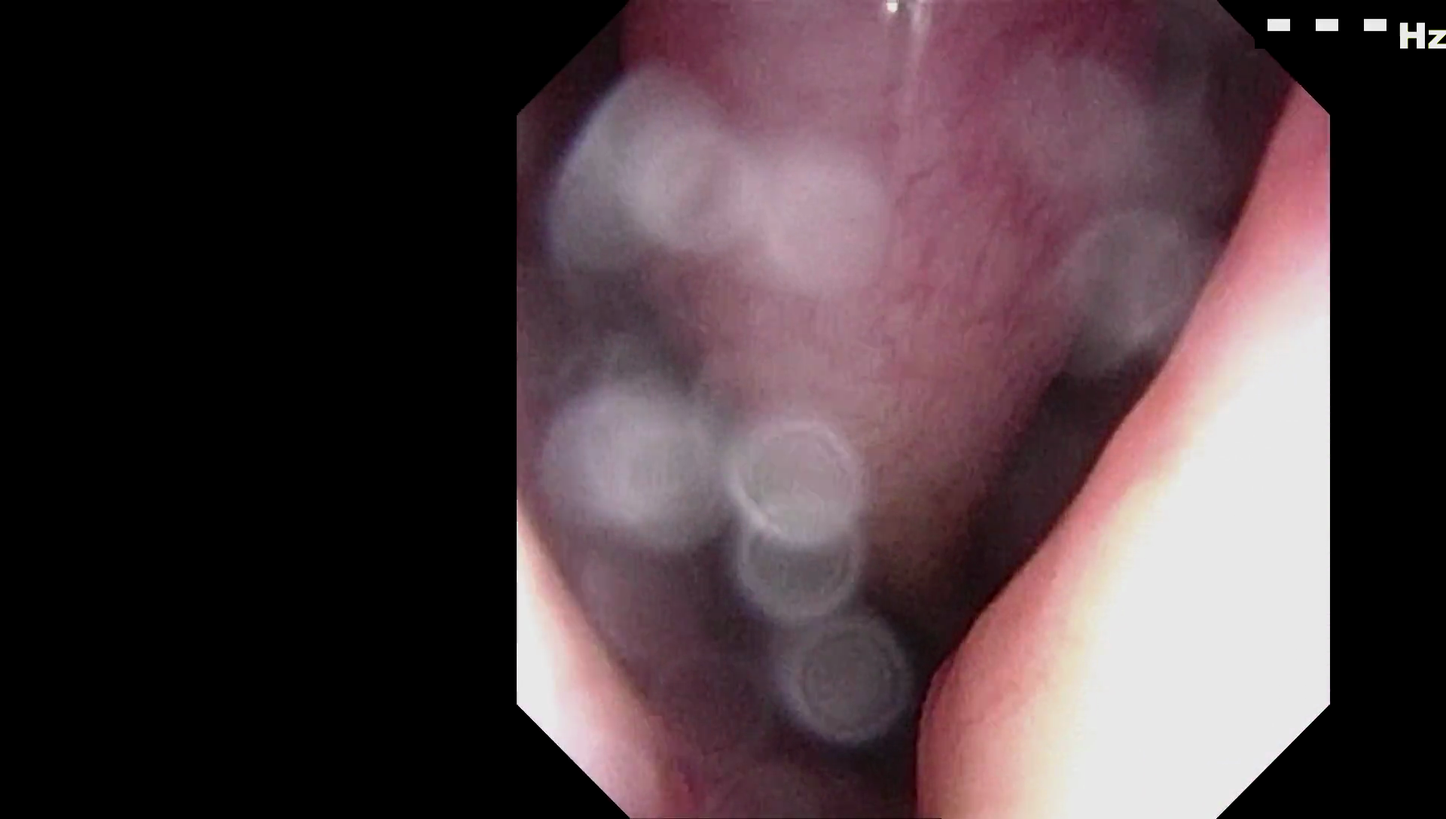close_wall: (971, 293, 1323, 811)
next: (891, 293, 1169, 671), (754, 508, 955, 814)
